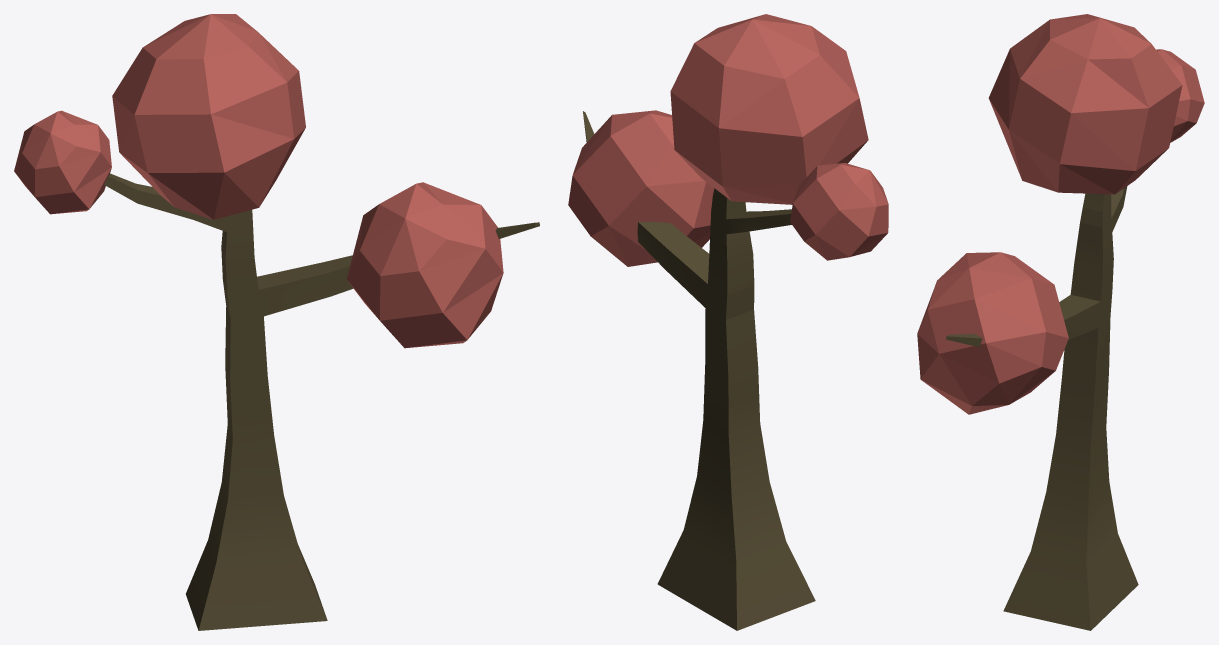
File: simpletree3.fbx
3 renders of one model, left to right at view 1: azimuth 30°, elevation 25°; view 2: azimuth 150°, elevation 25°; view 3: azimuth 270°, elevation 25°, orthographic. The views are drawn at different scales.
Visible parts, largest first — view 1: pasted__pasted__pasted__pasted__pasted__pasted__pasted__past (×3), pasted__pasted__pCube1; view 2: pasted__pasted__pasted__pasted__pasted__pasted__pasted__past (×3), pasted__pasted__pCube1; view 3: pasted__pasted__pasted__pasted__pasted__pasted__pasted__past (×3), pasted__pasted__pCube1.
Part boxes in pixels (x1,y1,x2,y2): pasted__pasted__pasted__pasted__pasted__pasted__pasted__past (×3): (14, 14, 503, 348); pasted__pasted__pCube1: (104, 173, 539, 630); pasted__pasted__pasted__pasted__pasted__pasted__pasted__past (×3): (568, 14, 888, 266); pasted__pasted__pCube1: (583, 111, 815, 630); pasted__pasted__pasted__pasted__pasted__pasted__pasted__past (×3): (917, 14, 1204, 414); pasted__pasted__pCube1: (946, 186, 1138, 630).
Bounding box in the file's own units: 13.05 × 18.27 × 8.36.
